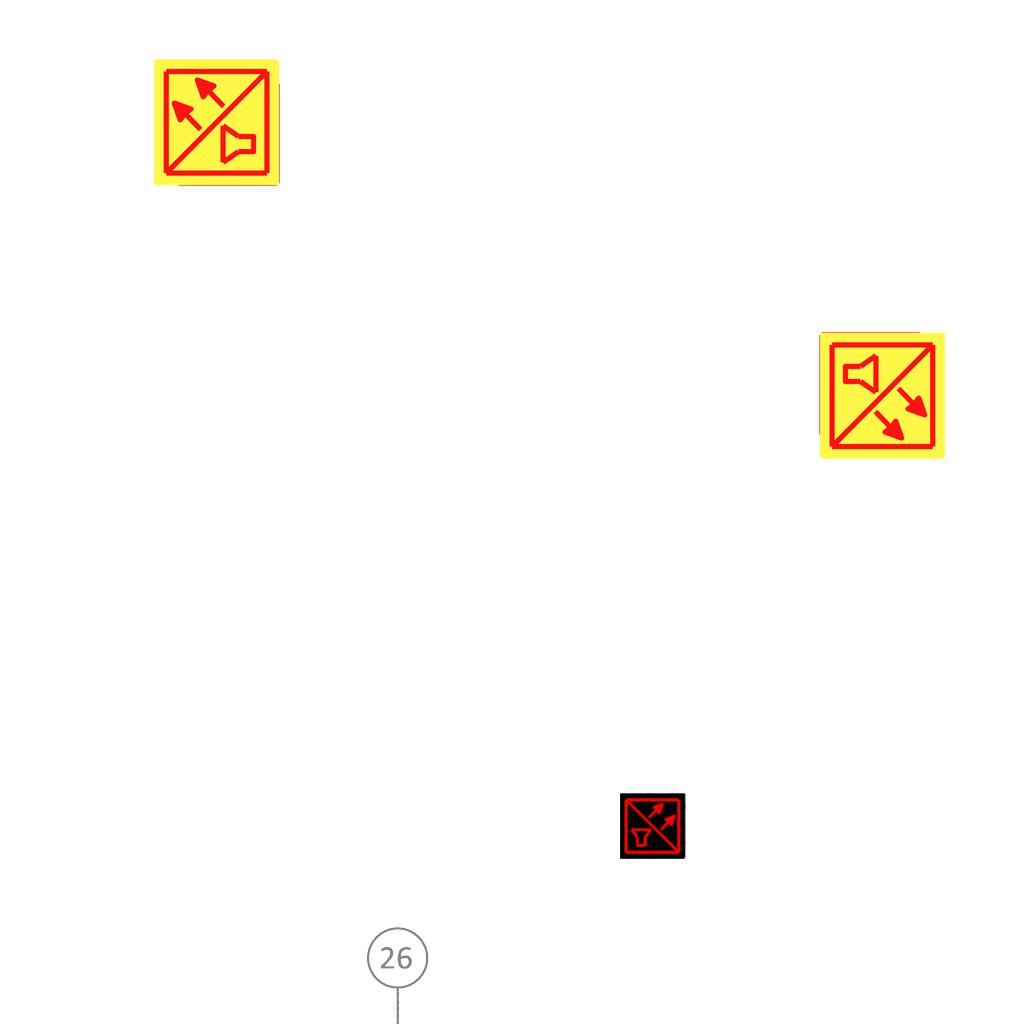OKW_Multisensormelder_(Kombination_optischer_Rauch-Kahlenmonoxid_Waerme-Melder): (816, 330, 948, 462), (151, 56, 283, 188), (620, 793, 686, 859)
